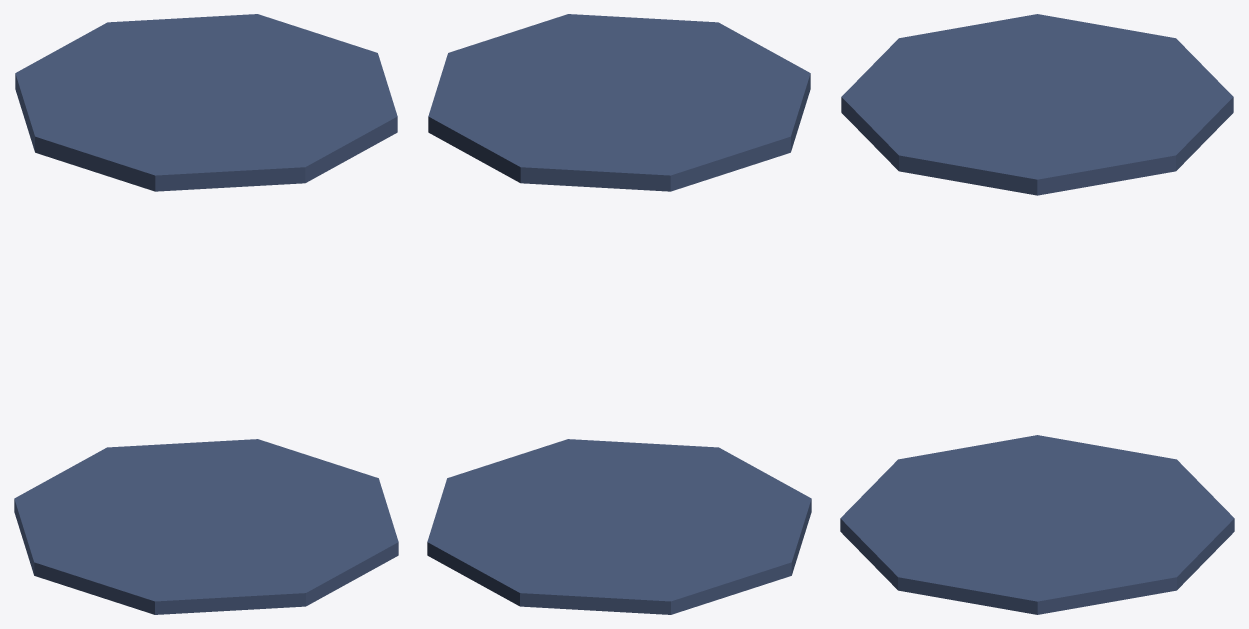
File: tank_land.fbx
The picture shows the model from 3 angles, left to right: view 1: azimuth 30°, elevation 25°; view 2: azimuth 150°, elevation 25°; view 3: azimuth 270°, elevation 25°; orthographic projection.
Parts seen in each view (by area): view 1: pasted__polySurface2; view 2: pasted__polySurface2; view 3: pasted__polySurface2.
Boxes of the visible parts, x1,y1,x2,y2 form: pasted__polySurface2: (14,14,398,614); pasted__polySurface2: (427,14,811,614); pasted__polySurface2: (840,14,1234,614).
Bounding box in the file's own units: 230 × 280 × 230.
